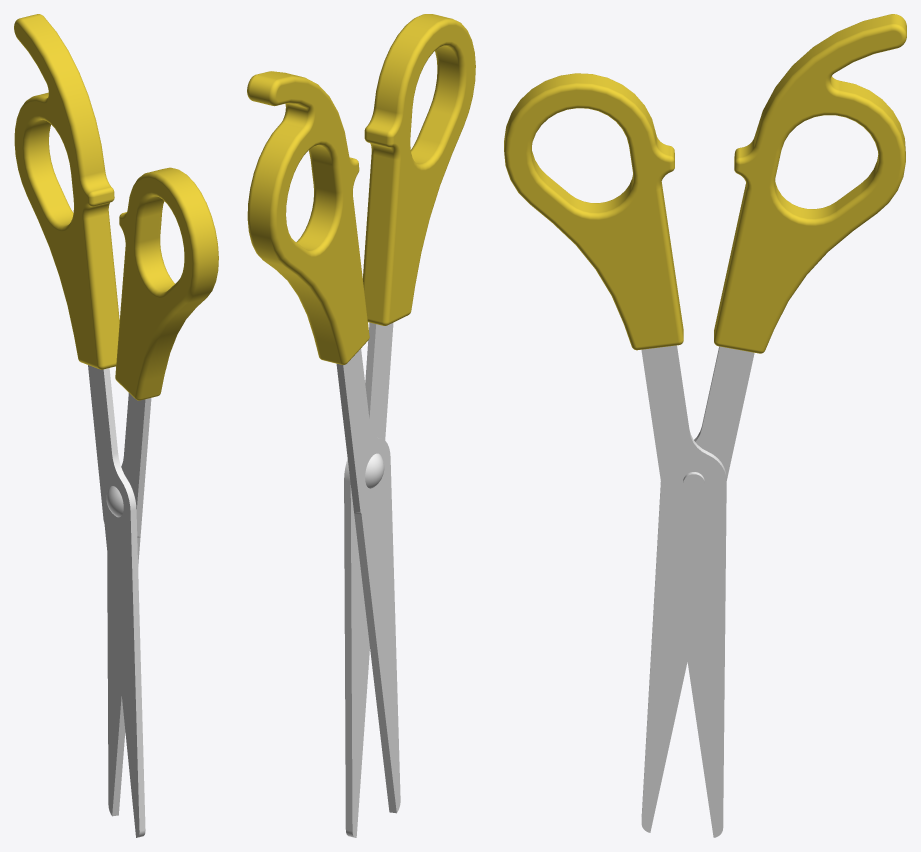
File: DrawingSlicerScissors.gltf
The picture shows the model from 3 angles, left to right: view 1: azimuth 30°, elevation 25°; view 2: azimuth 150°, elevation 25°; view 3: azimuth 270°, elevation 25°; orthographic projection. The views are drawn at different scales.
Visible parts, largest first — view 1: mesh96_meshnode_96, mesh59_meshnode_59, mesh138_meshnode_138, mesh84_meshnode_84, mesh25_meshnode_25, mesh3_meshnode_3, mesh123_meshnode_123, mesh93_meshnode_93, mesh24_meshnode_24, mesh126_meshnode_126, mesh62_meshnode_62, mesh7_meshnode_7 (+13 smaller); view 2: mesh96_meshnode_96, mesh59_meshnode_59, mesh138_meshnode_138, mesh84_meshnode_84, mesh103_meshnode_103, mesh35_meshnode_35, mesh81_meshnode_81, mesh97_meshnode_97, mesh123_meshnode_123, mesh101_meshnode_101, mesh150_meshnode_150, mesh54_meshnode_54 (+16 smaller); view 3: mesh77_meshnode_77, mesh50_meshnode_50, mesh147_meshnode_147, mesh89_meshnode_89, mesh124_meshnode_124, mesh123_meshnode_123, mesh23_meshnode_23, mesh25_meshnode_25, mesh38_meshnode_38, mesh1_meshnode_1, mesh107_meshnode_107, mesh55_meshnode_55 (+1 smaller).
Boxes of the visible parts, box(x1,y1,x2,y2) form: mesh96_meshnode_96: box(88, 365, 139, 837); mesh59_meshnode_59: box(14, 24, 97, 365); mesh138_meshnode_138: box(116, 177, 192, 396); mesh84_meshnode_84: box(107, 393, 145, 815); mesh25_meshnode_25: box(24, 16, 102, 175); mesh3_meshnode_3: box(89, 214, 118, 365); mesh123_meshnode_123: box(150, 167, 216, 302); mesh93_meshnode_93: box(130, 509, 145, 831); mesh24_meshnode_24: box(19, 20, 85, 176); mesh126_meshnode_126: box(128, 172, 199, 303); mesh62_meshnode_62: box(29, 119, 54, 183); mesh7_meshnode_7: box(82, 218, 103, 366); mesh96_meshnode_96: box(343, 349, 400, 812); mesh59_meshnode_59: box(276, 82, 368, 360); mesh138_meshnode_138: box(389, 25, 475, 321); mesh84_meshnode_84: box(350, 323, 393, 837); mesh103_meshnode_103: box(364, 155, 393, 321); mesh35_meshnode_35: box(250, 123, 302, 265); mesh81_meshnode_81: box(344, 480, 352, 831); mesh97_meshnode_97: box(354, 513, 396, 813); mesh123_meshnode_123: box(377, 14, 450, 112); mesh101_meshnode_101: box(382, 159, 400, 322); mesh150_meshnode_150: box(432, 46, 459, 114); mesh54_meshnode_54: box(297, 188, 335, 250); mesh77_meshnode_77: box(641, 345, 726, 837); mesh50_meshnode_50: box(719, 31, 901, 350); mesh147_meshnode_147: box(509, 90, 678, 346); mesh89_meshnode_89: box(641, 346, 754, 832); mesh124_meshnode_124: box(504, 83, 655, 203); mesh123_meshnode_123: box(504, 73, 655, 149); mesh23_meshnode_23: box(754, 24, 891, 148); mesh25_meshnode_25: box(754, 14, 890, 144); mesh38_meshnode_38: box(839, 90, 905, 213); mesh1_meshnode_1: box(714, 190, 751, 342); mesh107_meshnode_107: box(656, 187, 683, 341); mesh55_meshnode_55: box(776, 112, 883, 199).
Bounding box in the file's own units: 0.006 × 0.165 × 0.0738.
